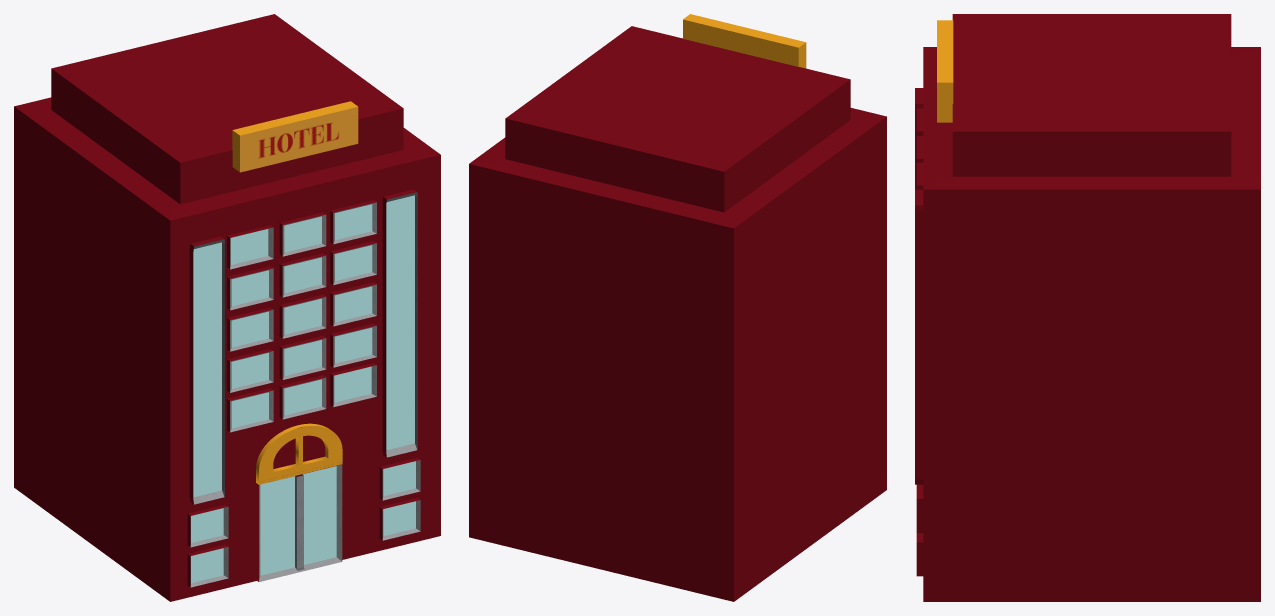
File: Hotel1.fbx
The picture shows the model from 3 angles, left to right: view 1: azimuth 30°, elevation 25°; view 2: azimuth 150°, elevation 25°; view 3: azimuth 270°, elevation 25°; orthographic projection. The views are drawn at different scales.
Visible parts, largest first — view 1: Hotel.001; view 2: Hotel.001; view 3: Hotel.001.
Part boxes in pixels (x1,y1,x2,y2): Hotel.001: (14,14,440,601); Hotel.001: (469,14,886,601); Hotel.001: (915,14,1260,601).
Bounding box in the file's own units: 65.21 × 102 × 66.78.
